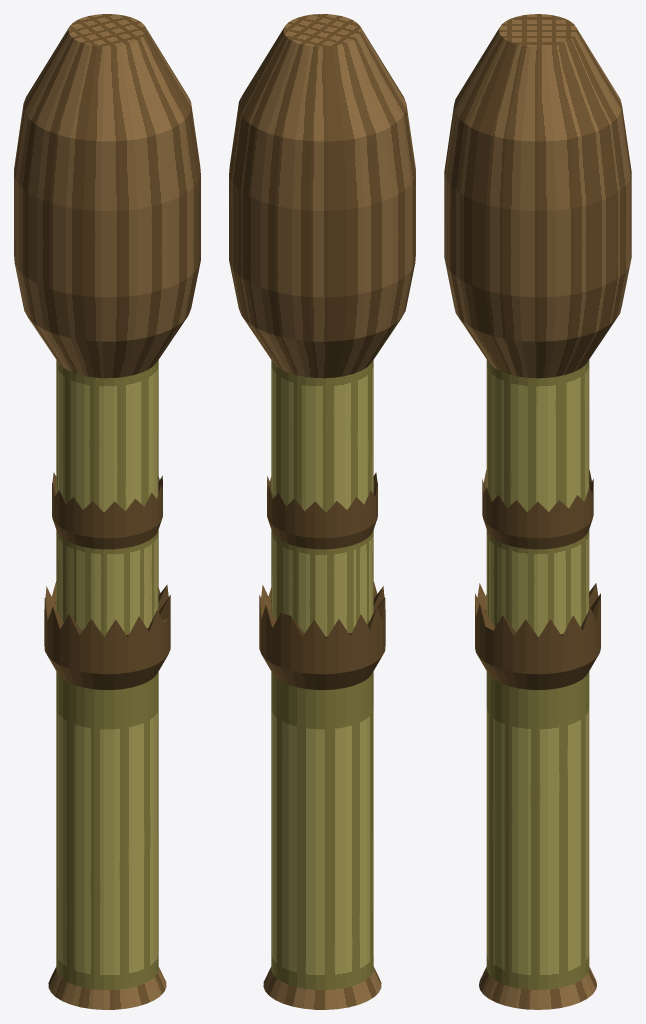
The model's file is tsukushi.gltf.
3 renders of one model, left to right at view 1: azimuth 30°, elevation 25°; view 2: azimuth 150°, elevation 25°; view 3: azimuth 270°, elevation 25°, orthographic.
Parts seen in each view (by area): view 1: Cylinder; view 2: Cylinder; view 3: Cylinder.
Boxes of the visible parts, x1=… form: Cylinder: x1=14, y1=14, x2=200, y2=1009; Cylinder: x1=229, y1=14, x2=415, y2=1009; Cylinder: x1=444, y1=14, x2=631, y2=1009.
Bounding box in the file's own units: 2.64 × 14.83 × 2.64.
Materials: 1 (1 with a texture image).
